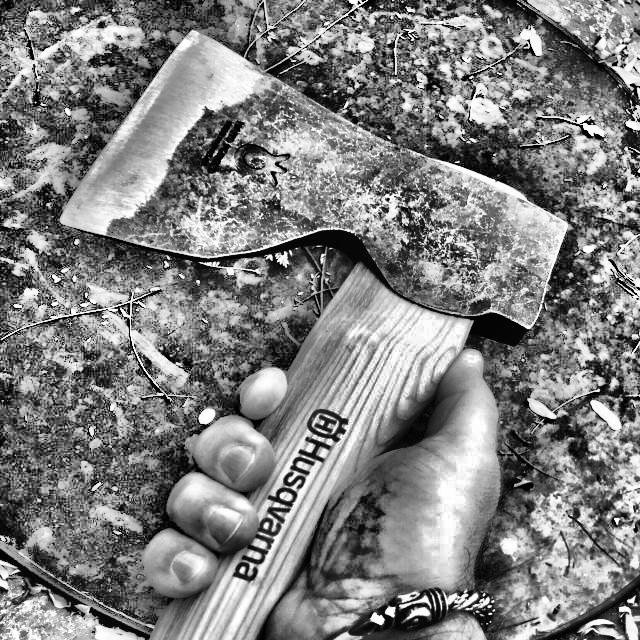kapak: (48, 9, 585, 640)
